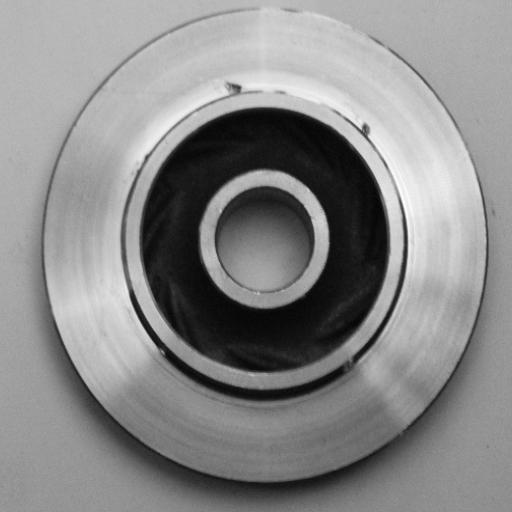crack: (213, 67, 259, 107), (354, 109, 381, 148)
scratch: (264, 0, 397, 56)
unpolished_casting: (39, 4, 490, 491)
